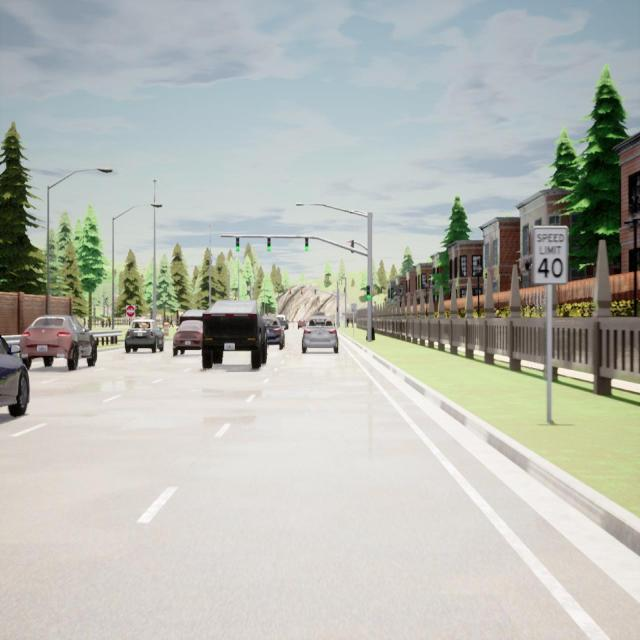Pedestrian: (99, 314, 105, 328), (106, 314, 111, 327), (169, 314, 173, 329), (346, 316, 350, 328), (351, 316, 353, 327)
Traffic_Signs: (535, 228, 567, 282), (126, 305, 135, 318), (352, 304, 356, 311)
Vehicle: (202, 300, 266, 373), (18, 316, 96, 367), (1, 322, 27, 414), (122, 315, 165, 354), (300, 315, 340, 355), (172, 309, 204, 357), (262, 315, 286, 350), (277, 315, 290, 330), (298, 319, 306, 329)
traffic_light: (350, 238, 354, 256), (236, 236, 240, 252), (366, 285, 370, 300), (305, 236, 308, 252), (268, 236, 270, 251), (314, 290, 316, 296), (301, 288, 302, 296), (290, 289, 291, 295), (337, 306, 338, 312), (344, 288, 345, 293)
